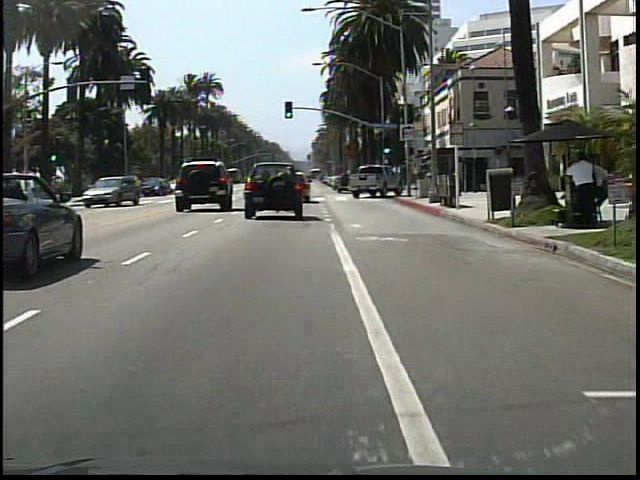person: (560, 149, 594, 232), (583, 152, 611, 231)
